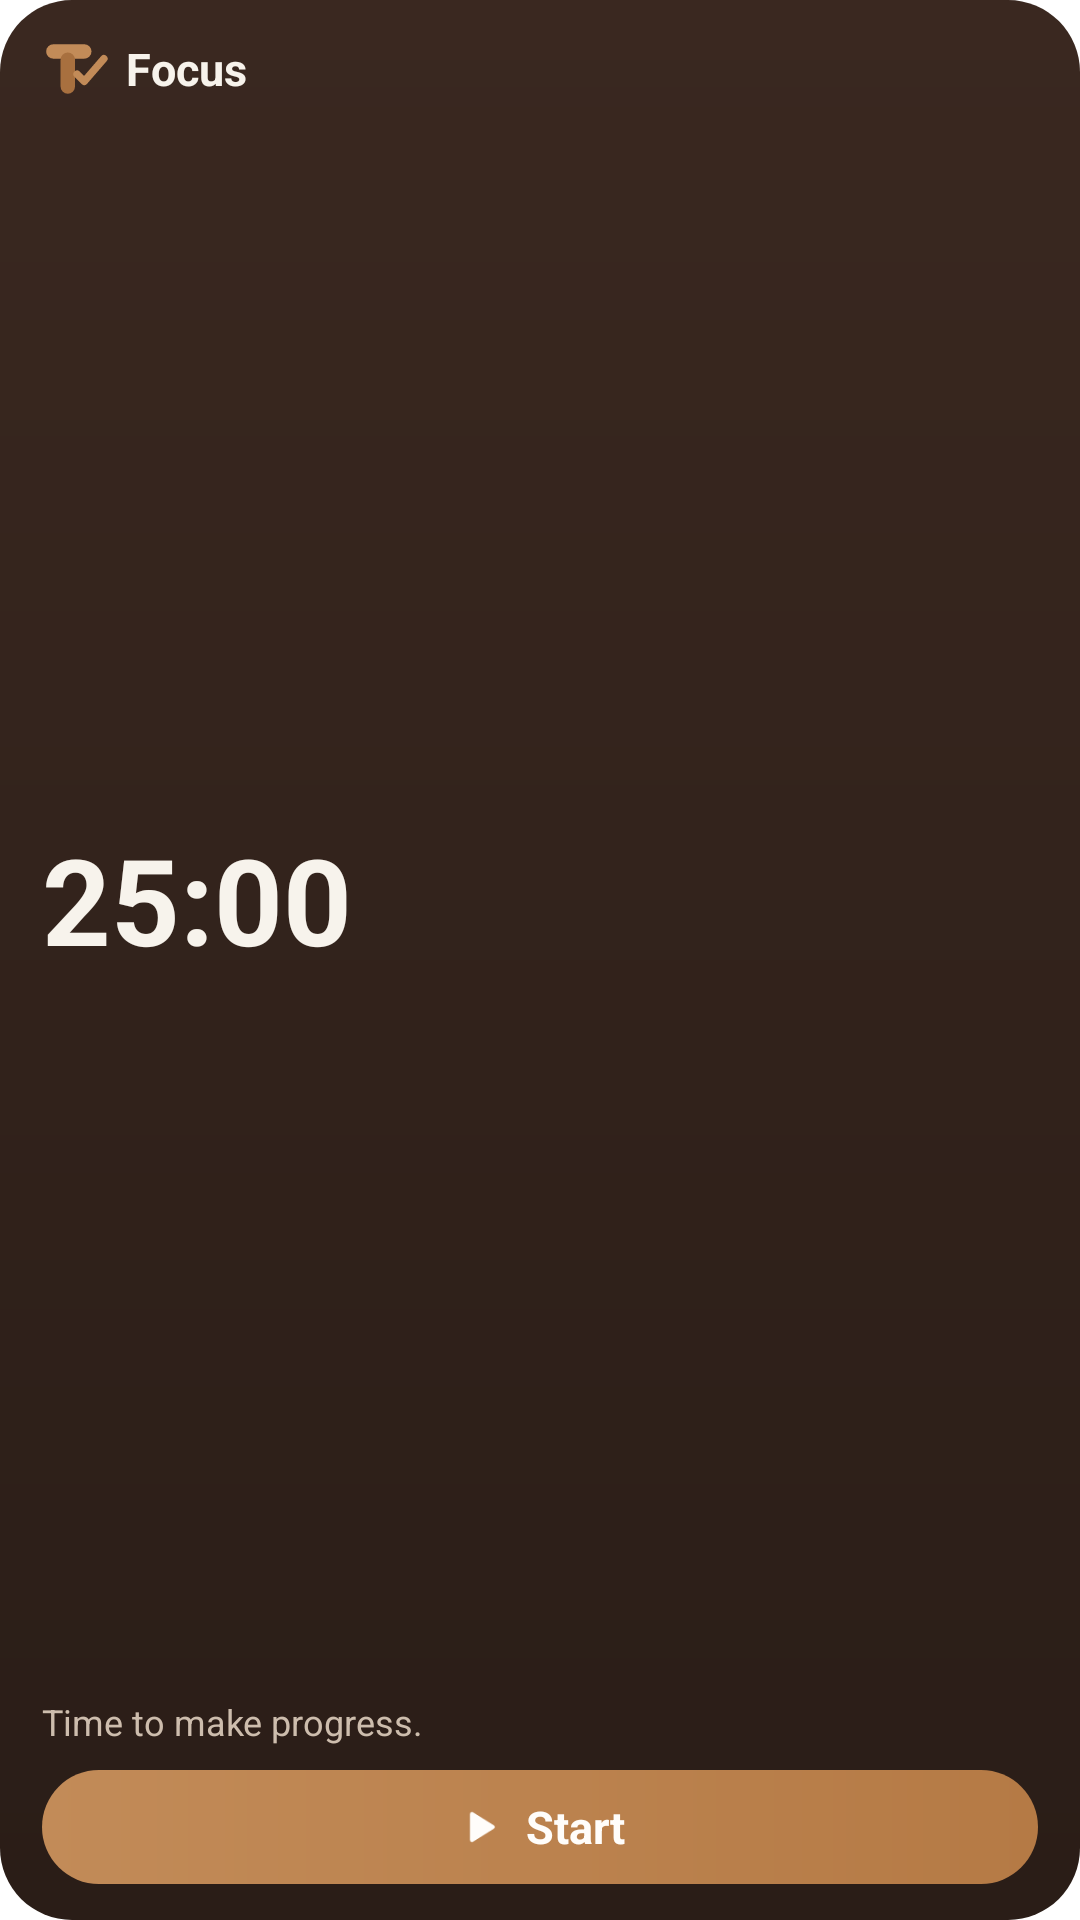

Where to tap for icons on this 1080w x 1920h app screen, as [x,y]:
widget mark: [77,69]
widget play: [482,1827]
